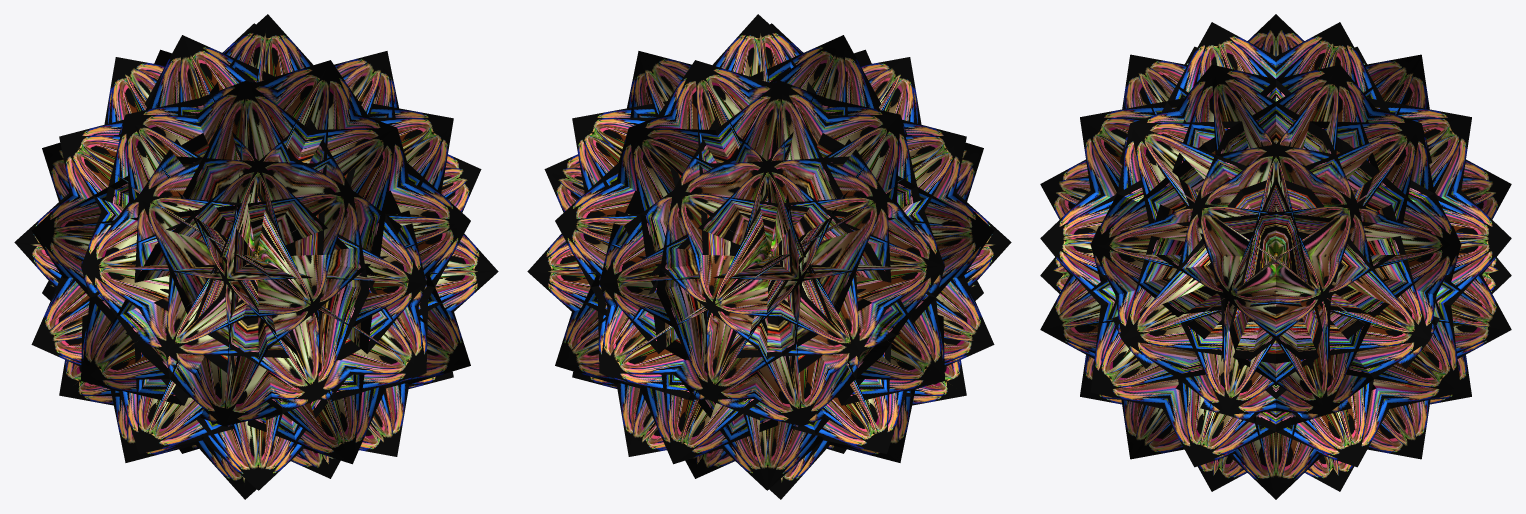
The model's file is GreatDirhombicosidodecahedron9.gltf.
3 renders of one model, left to right at view 1: azimuth 30°, elevation 25°; view 2: azimuth 150°, elevation 25°; view 3: azimuth 270°, elevation 25°, orthographic. The views are drawn at different scales.
Parts seen in each view (by area): view 1: GreatDirhombicosidodecahedron9; view 2: GreatDirhombicosidodecahedron9; view 3: GreatDirhombicosidodecahedron9.
Boxes of the visible parts, x1,y1,x2,y2 form: GreatDirhombicosidodecahedron9: [14, 14, 498, 499]; GreatDirhombicosidodecahedron9: [527, 14, 1011, 499]; GreatDirhombicosidodecahedron9: [1040, 14, 1511, 499].
Size of the model in its own units: 1.34 by 1.34 by 1.34.
1 material, 1 textured.
